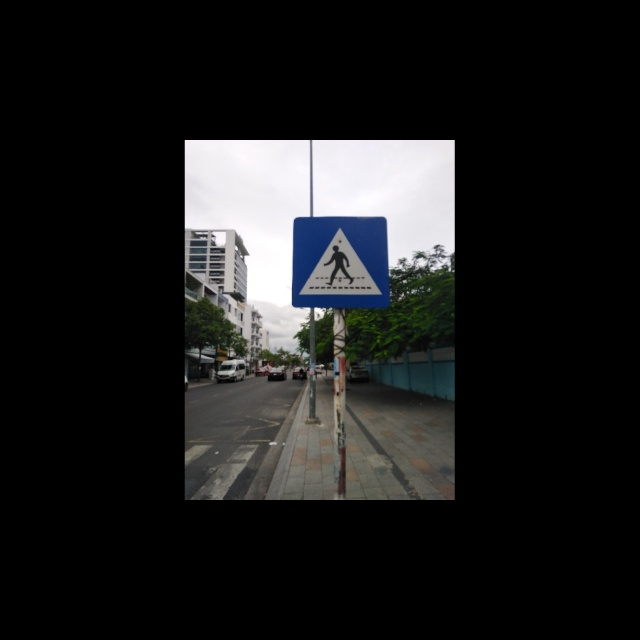Đường dành cho người đi bộ: (293, 216, 390, 309)
